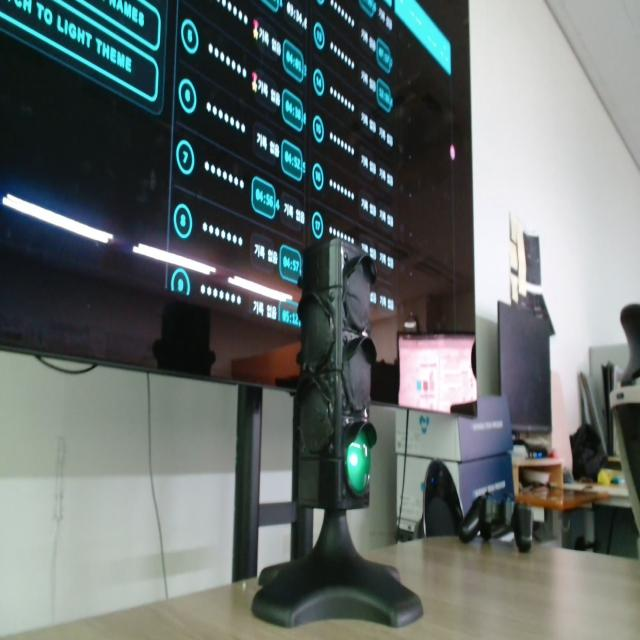green_light: (346, 432, 370, 495)
